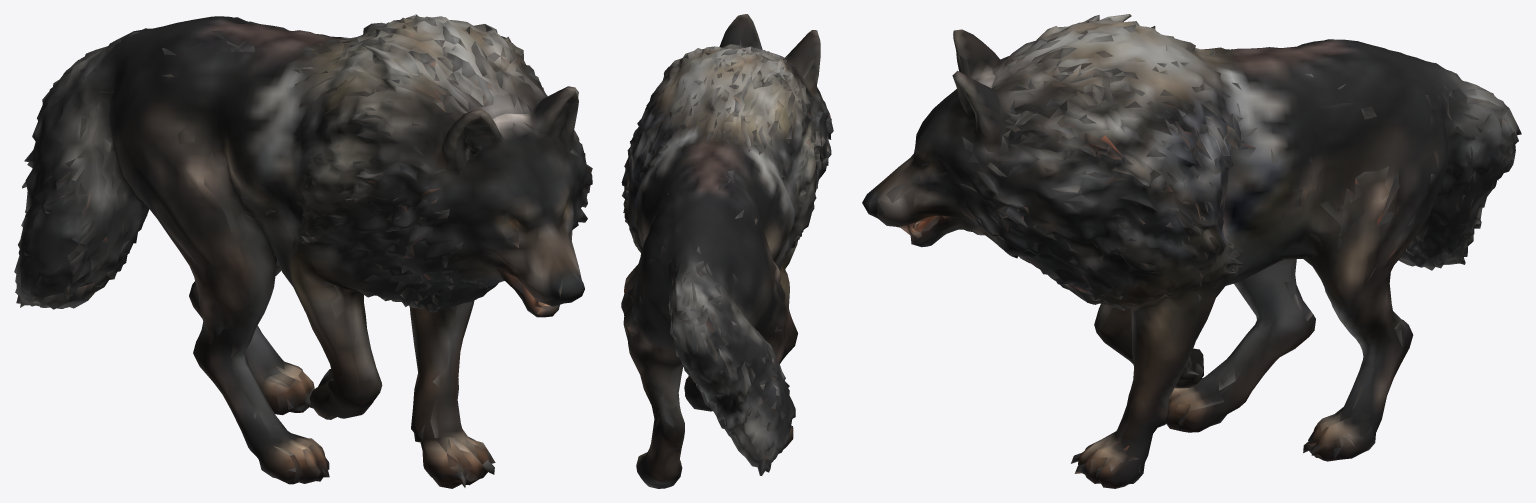
The model's file is Aggie_final.glb.
3 views of the same model, side by side, from view 1: azimuth 30°, elevation 25°; view 2: azimuth 150°, elevation 25°; view 3: azimuth 270°, elevation 25° (orthographic). The views are drawn at different scales.
Visible parts, largest first — view 1: Mesh1.0; view 2: Mesh1.0; view 3: Mesh1.0.
Boxes of the visible parts, <box> form: Mesh1.0: <box>14,14,592,488</box>; Mesh1.0: <box>621,14,833,488</box>; Mesh1.0: <box>862,14,1521,488</box>.
Size of the model in its own units: 1.42 by 1.8 by 2.42.
Materials: 1 (1 with a texture image).
